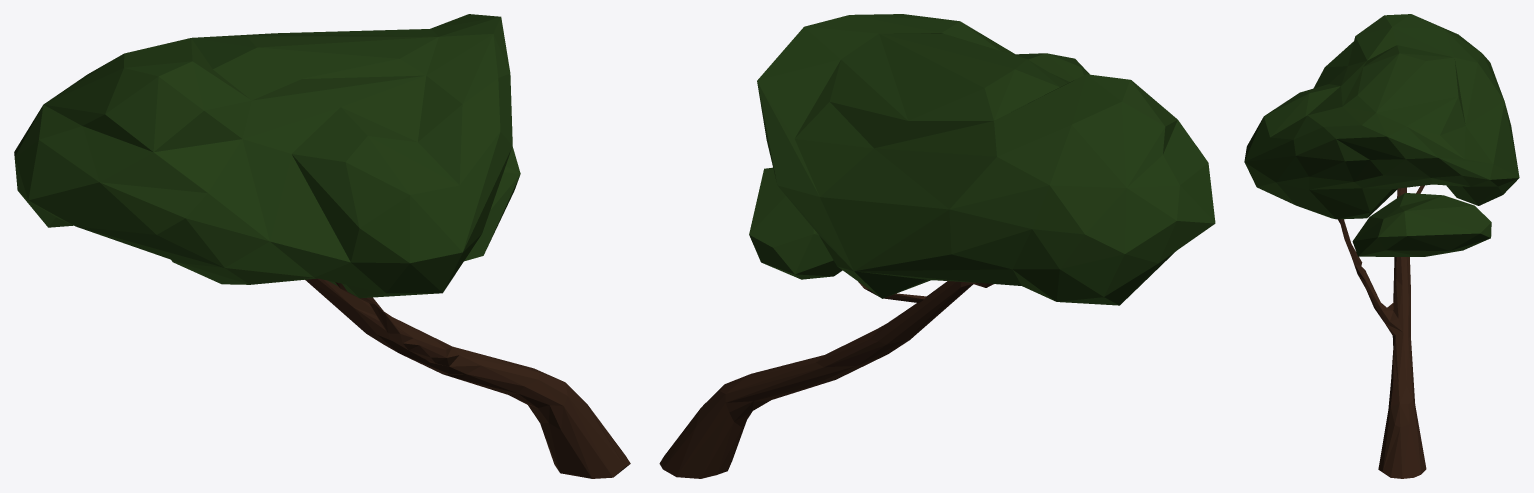
The model's file is SM_tree_jungle_03.fbx.
3 renders of one model, left to right at view 1: azimuth 30°, elevation 25°; view 2: azimuth 150°, elevation 25°; view 3: azimuth 270°, elevation 25°, orthographic. The views are drawn at different scales.
Visible parts, largest first — view 1: Object003; view 2: Object003; view 3: Object003.
Part boxes in pixels (box(x1,y1,x2,y2)): Object003: box(14, 14, 630, 478); Object003: box(659, 14, 1215, 478); Object003: box(1244, 14, 1519, 478).
Bounding box in the file's own units: 330 × 271 × 213.
